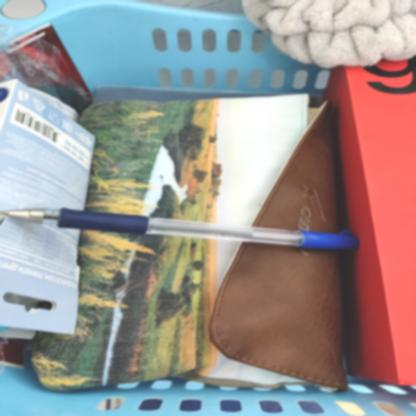pen: (1, 185, 366, 274)
